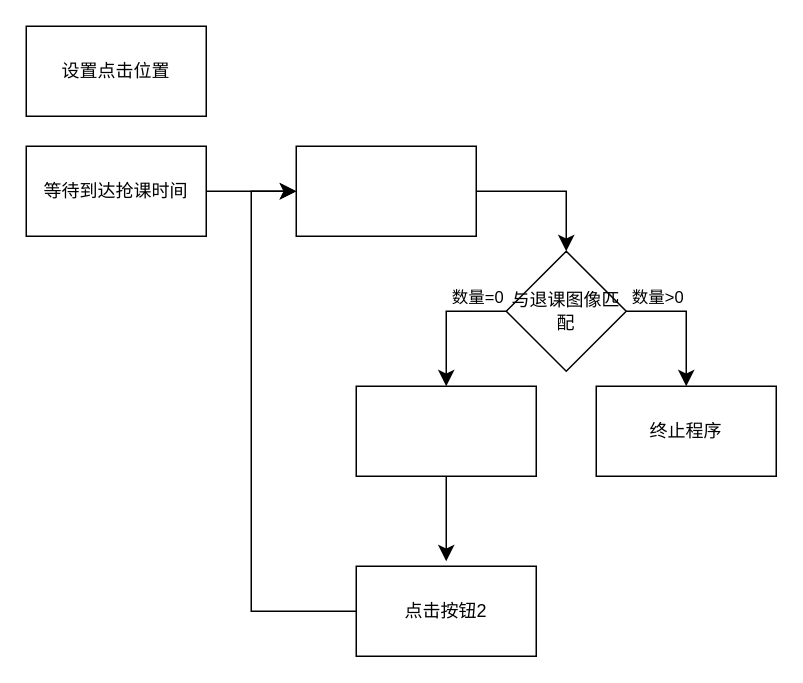
Image size: 803x683. Some labels were removed from this diagram. The centre of each missing label's shape, as x and y in pixels:
"截取按钮1附近的图像" belongs at [385,190].
"点击按钮1" belongs at [445,430].
